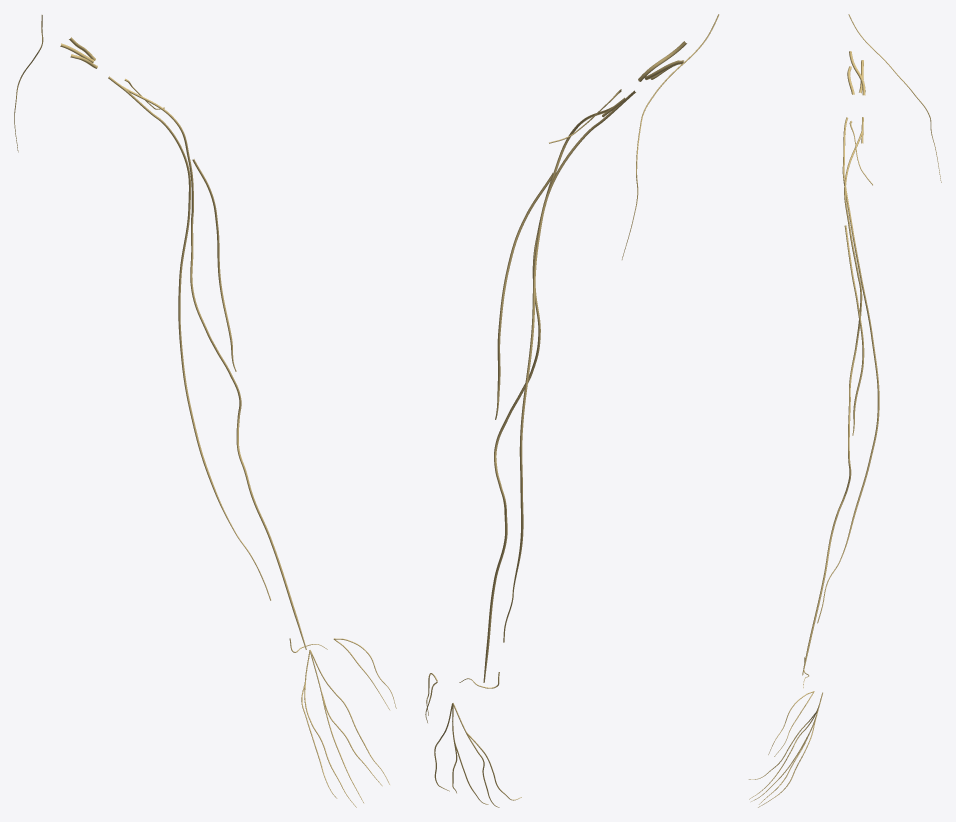
The model's file is upper-left.glb.
The picture shows the model from 3 angles, left to right: view 1: azimuth 30°, elevation 25°; view 2: azimuth 150°, elevation 25°; view 3: azimuth 270°, elevation 25°; orthographic projection. The views are drawn at different scales.
Visible parts, largest first — view 1: zanatomy_median-nerve-l, zanatomy_ulnar-nerve-l, zanatomy_dorsal-digital-branches-of-radial-nerve-l; view 2: zanatomy_ulnar-nerve-l, zanatomy_median-nerve-l, zanatomy_dorsal-digital-branches-of-radial-nerve-l, zanatomy_musculocutaneous-nerve-l; view 3: zanatomy_median-nerve-l, zanatomy_ulnar-nerve-l, zanatomy_dorsal-digital-branches-of-radial-nerve-l, zanatomy_musculocutaneous-nerve-l.
Boxes of the visible parts, x1,y1,x2,y2 form: zanatomy_median-nerve-l: [122, 86, 306, 649]; zanatomy_ulnar-nerve-l: [117, 83, 271, 600]; zanatomy_dorsal-digital-branches-of-radial-nerve-l: [301, 638, 396, 807]; zanatomy_ulnar-nerve-l: [503, 90, 635, 642]; zanatomy_median-nerve-l: [483, 106, 612, 682]; zanatomy_dorsal-digital-branches-of-radial-nerve-l: [425, 673, 521, 807]; zanatomy_musculocutaneous-nerve-l: [495, 173, 552, 419]; zanatomy_median-nerve-l: [802, 130, 862, 675]; zanatomy_ulnar-nerve-l: [817, 117, 879, 623]; zanatomy_dorsal-digital-branches-of-radial-nerve-l: [748, 691, 822, 807]; zanatomy_musculocutaneous-nerve-l: [844, 225, 864, 435].
Size of the model in its own units: 0.3077 by 0.7783 by 0.1999.
